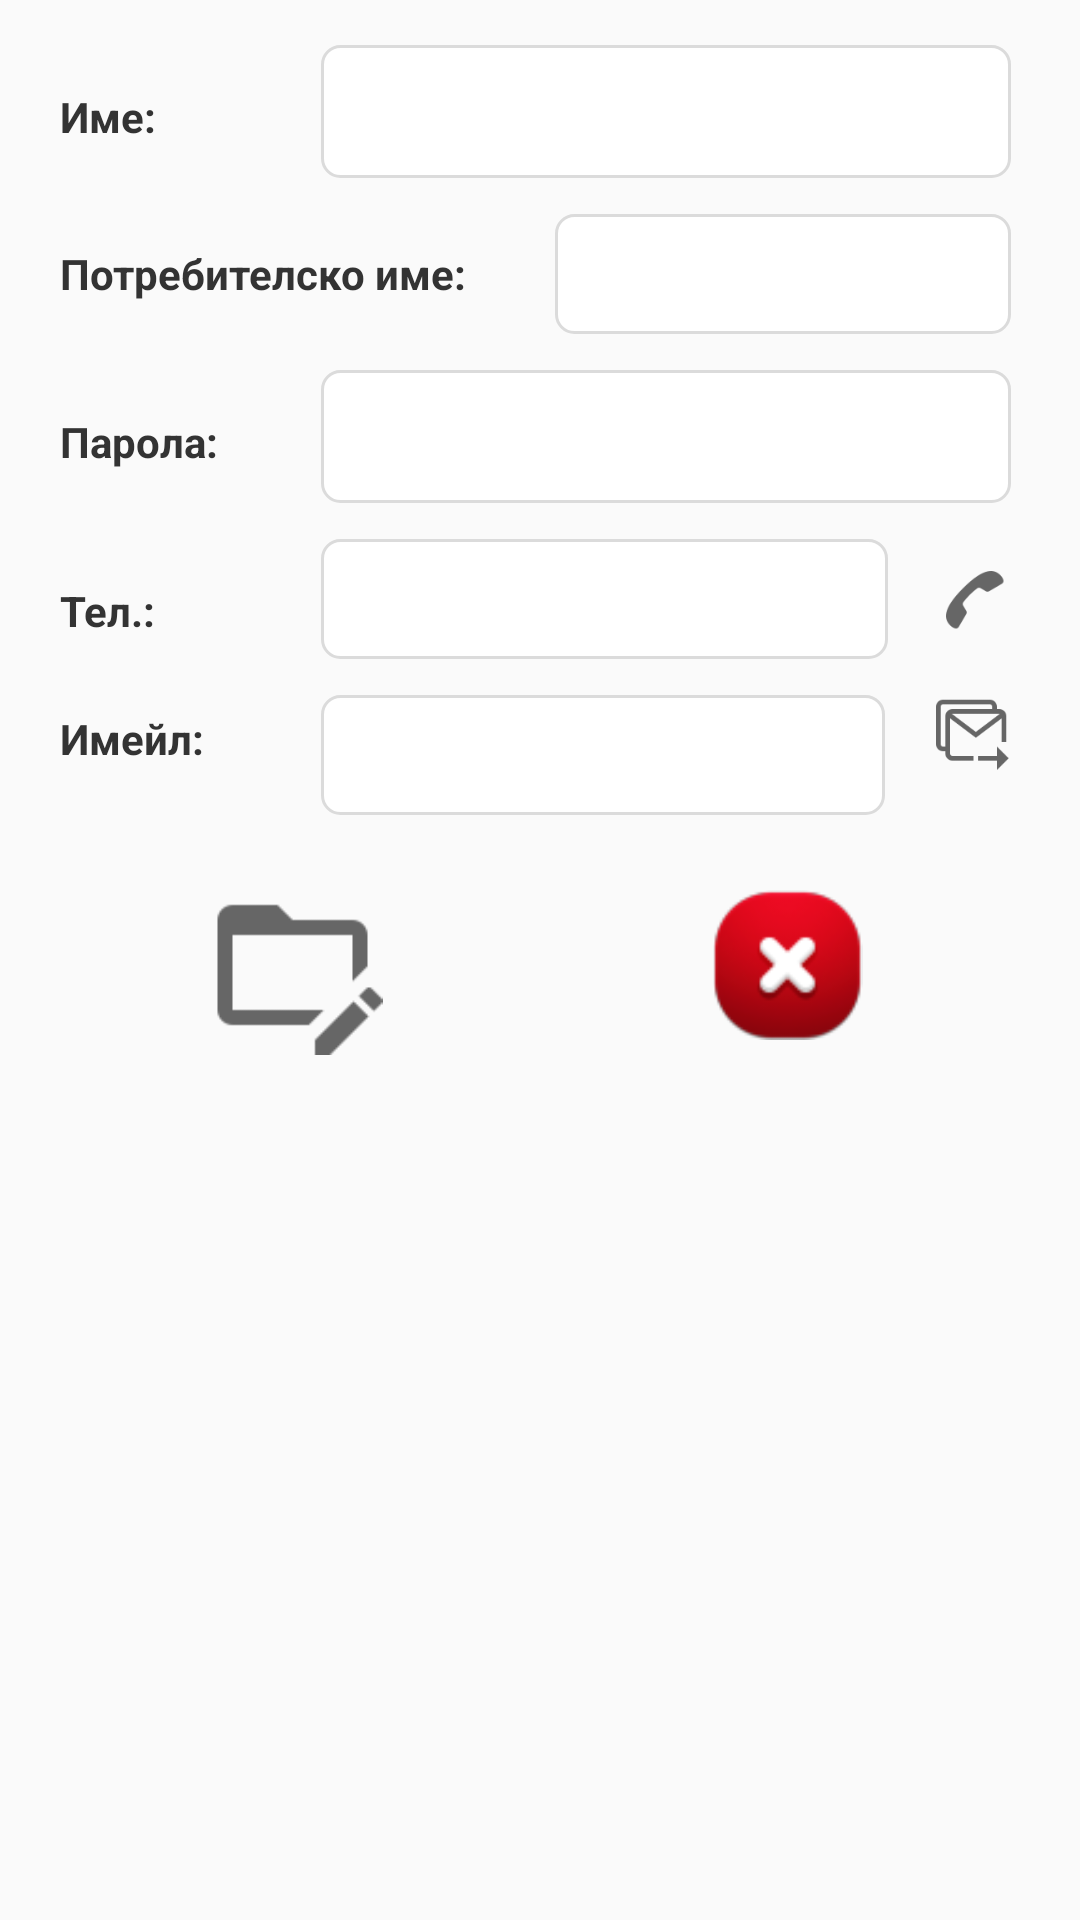

Named icons in this screenshot (1080×1920) and their bounding boxes, (left=x1, top=y1, right=x2, bottom=y2):
call: (left=946, top=571, right=1004, bottom=629)
del assoc: (left=714, top=891, right=861, bottom=1040)
edit: (left=217, top=904, right=383, bottom=1055)
email: (left=936, top=699, right=1009, bottom=770)
